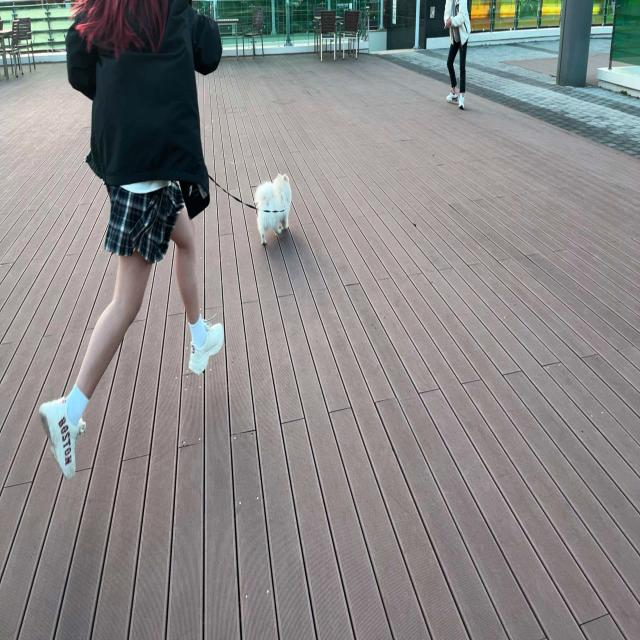Leashed_Dog: (154, 104, 292, 246)
